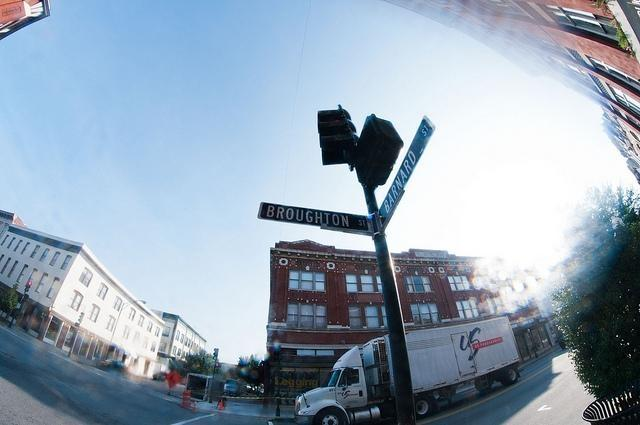truck: (292, 316, 522, 420), (186, 372, 223, 400)
